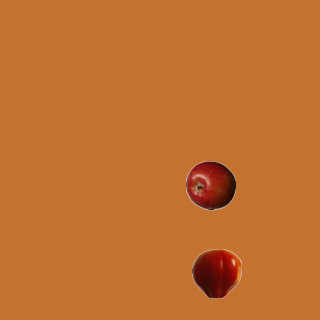Apple Braeburn: (185, 160, 235, 210)
Tomato 1: (191, 248, 241, 298)
